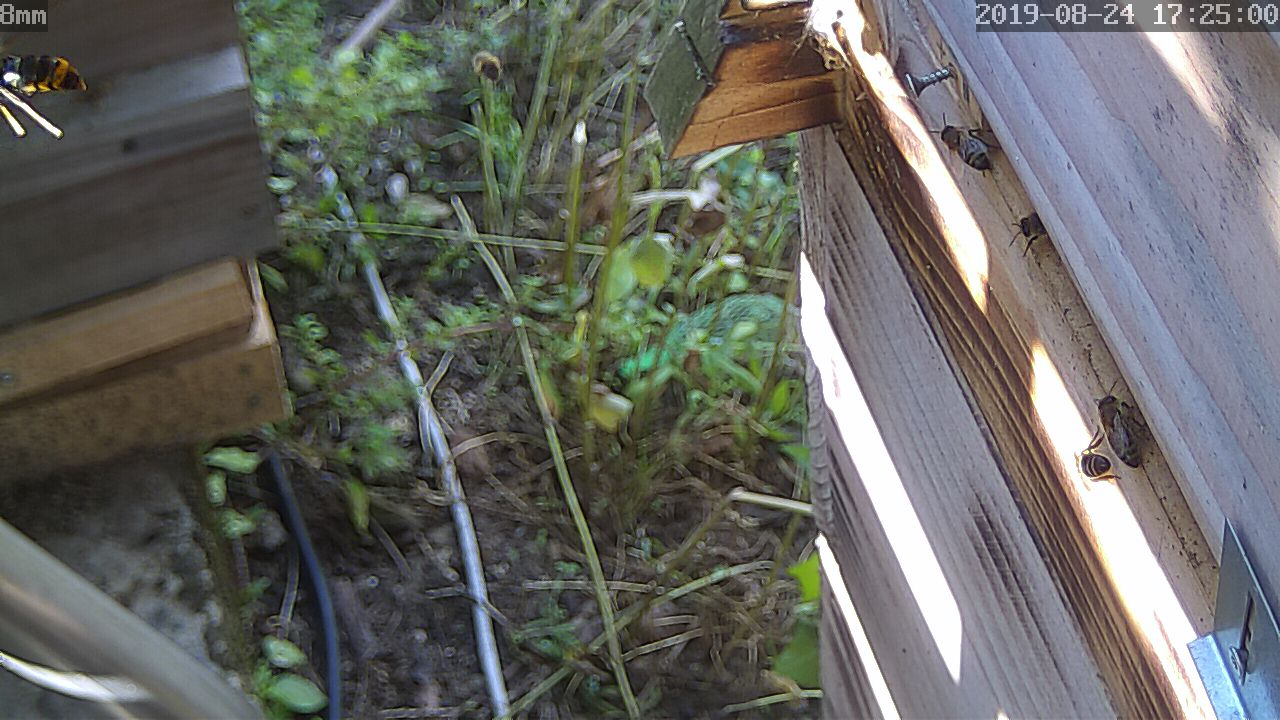bee: (1092, 390, 1149, 470), (939, 116, 994, 178), (1071, 439, 1119, 488)
hornet: (1, 48, 94, 134)
